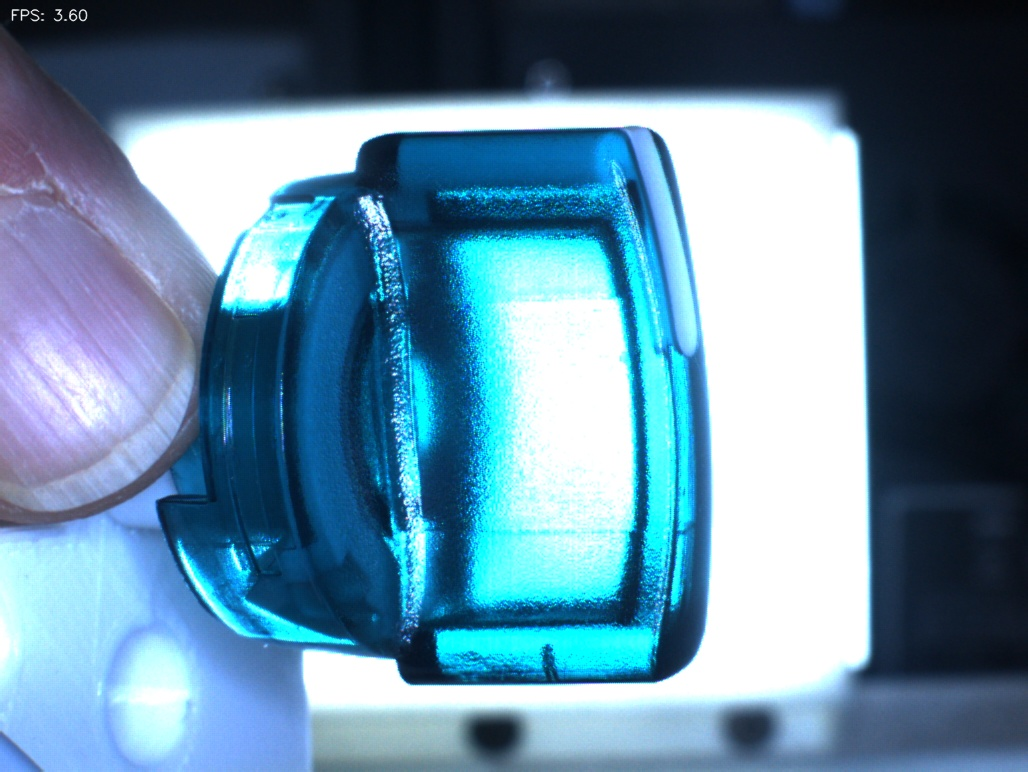Bulle: (503, 627, 602, 716)
